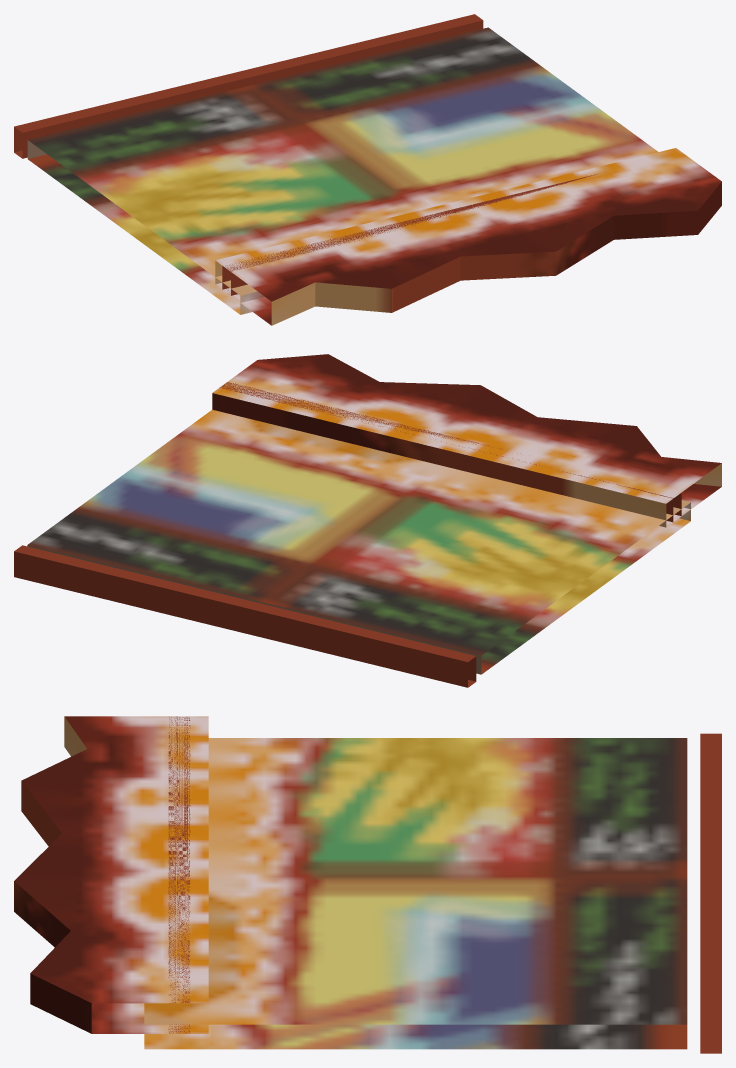
Rendered from section-1.obj.
3 renders of one model, top to bottom at view 1: azimuth 30°, elevation 25°; view 2: azimuth 150°, elevation 25°; view 3: azimuth 270°, elevation 25°, orthographic. The views are drawn at different scales.
Bounding box in the file's own units: 1 × 0.082 × 1.04.
Materials: 1 (1 with a texture image).
